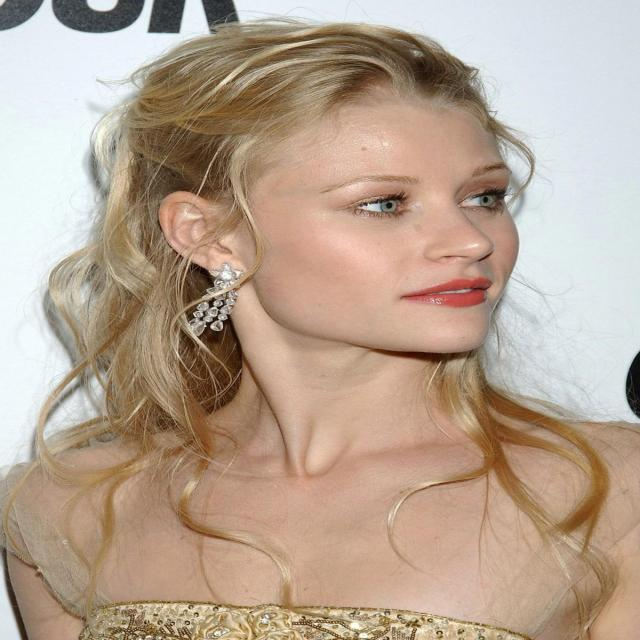no-earmuff: (142, 178, 302, 302)
